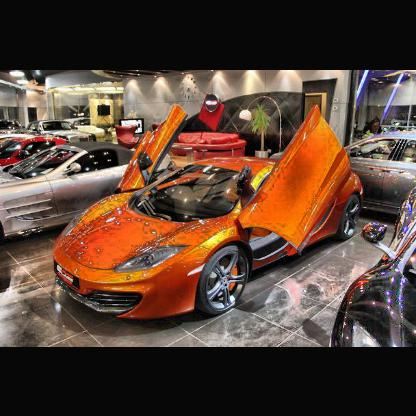McLaren MP4-12C Coupe 2012: (53, 106, 363, 325)
